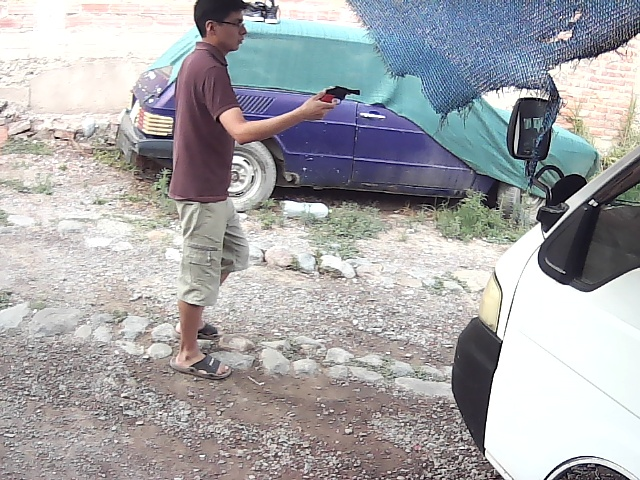pistola: (317, 78, 366, 110)
